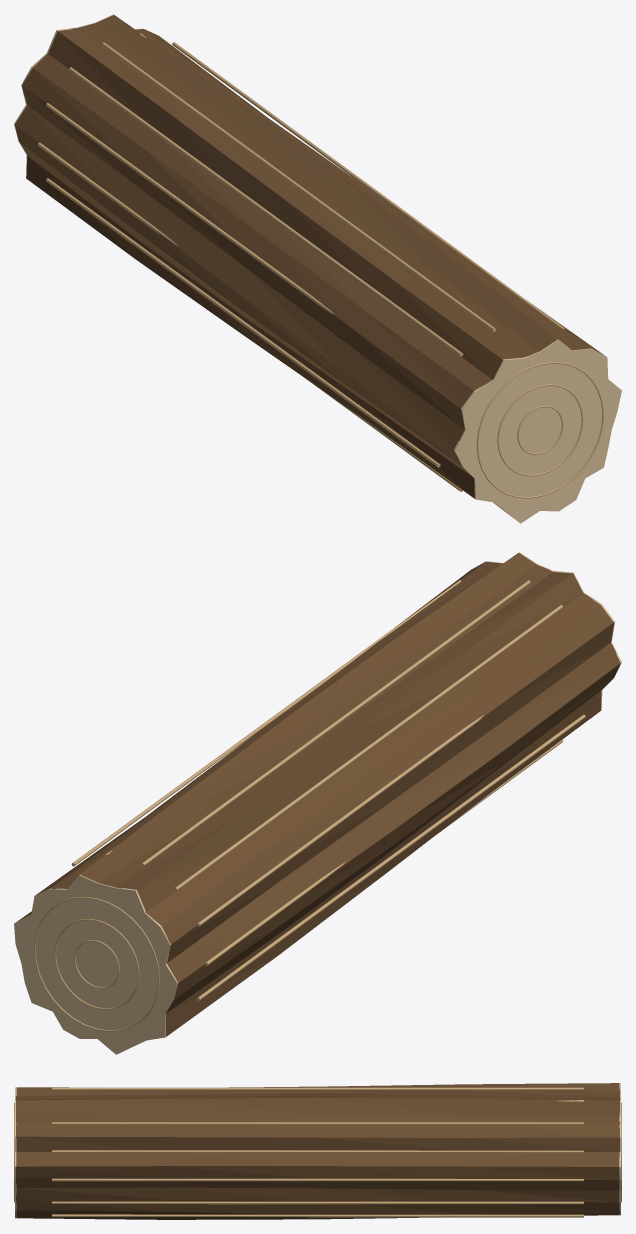
Rendered from sawmill-and-timber-yard-unprocessed-bark-log-9dc8c755__31188.glb.
3 renders of one model, top to bottom at view 1: azimuth 30°, elevation 25°; view 2: azimuth 150°, elevation 25°; view 3: azimuth 270°, elevation 25°, orthographic. The views are drawn at different scales.
Visible parts, largest first — view 1: unprocessed-bark-log; view 2: unprocessed-bark-log; view 3: unprocessed-bark-log.
Boxes of the visible parts, <box> form: unprocessed-bark-log: <box>14,14,621,523</box>; unprocessed-bark-log: <box>14,552,621,1054</box>; unprocessed-bark-log: <box>14,1083,621,1219</box>.
Bounding box in the file's own units: 0.6242 × 0.6232 × 2.82.
